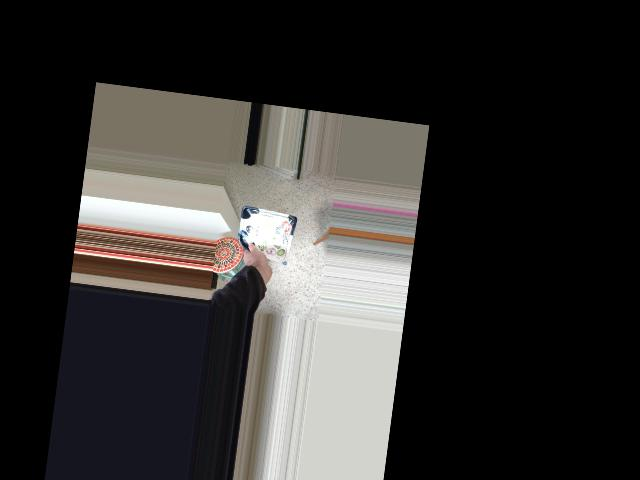cheese: (231, 216, 294, 284)
